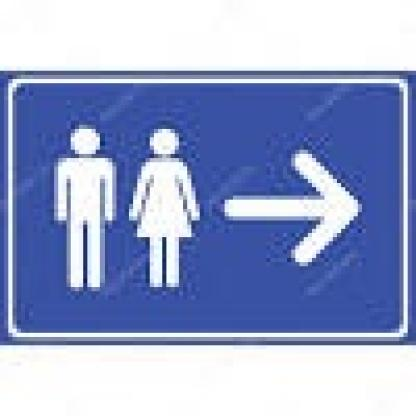toilet: (46, 113, 207, 296)
